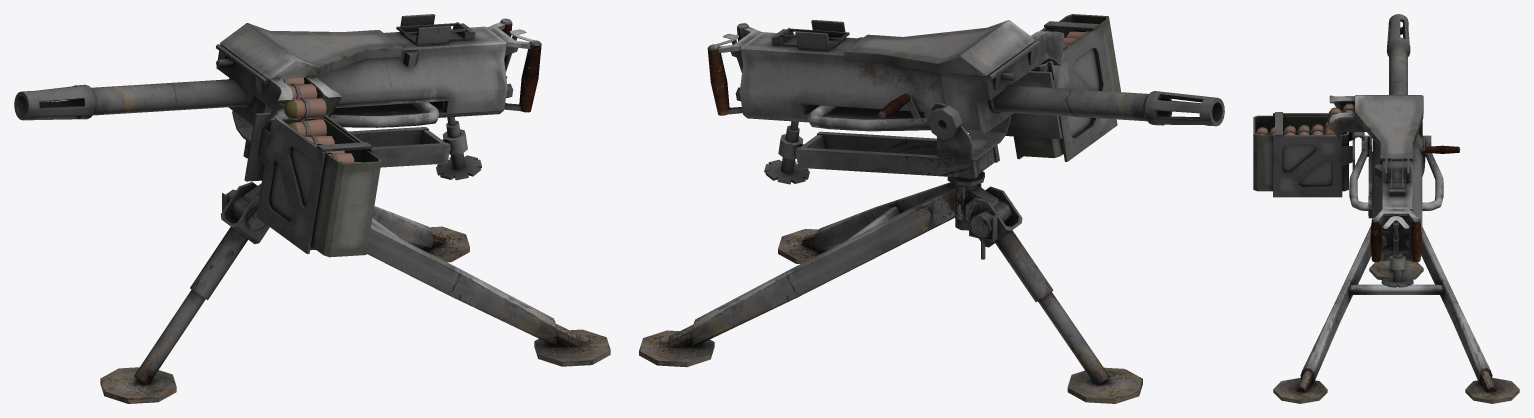
The picture shows the model from 3 angles, left to right: view 1: azimuth 30°, elevation 25°; view 2: azimuth 150°, elevation 25°; view 3: azimuth 270°, elevation 25°; orthographic projection. The views are drawn at different scales.
Visible parts, largest first — view 1: MK19_TRIPOD_0; view 2: MK19_TRIPOD_0; view 3: MK19_TRIPOD_0.
Part boxes in pixels (left/top/right/bottom): MK19_TRIPOD_0: left=14, top=14, right=610, bottom=403; MK19_TRIPOD_0: left=639, top=14, right=1224, bottom=403; MK19_TRIPOD_0: left=1253, top=14, right=1519, bottom=403.
Size of the model in its own units: 0.0097 by 0.00589 by 0.00635.
1 material, 1 textured.
